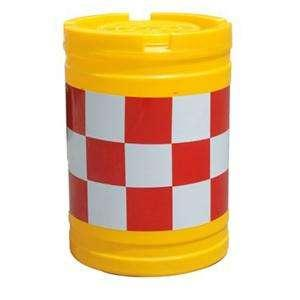sign: (57, 8, 235, 277)
